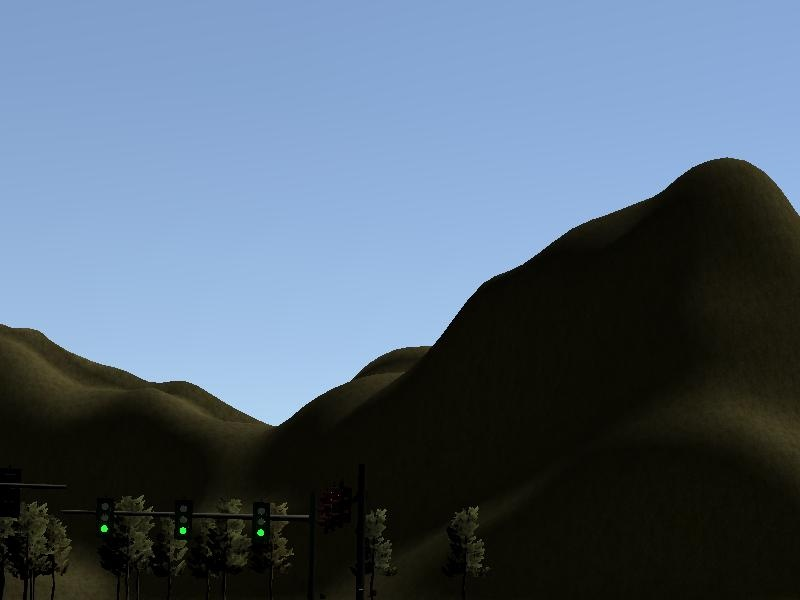GREEN: (170, 499, 196, 541), (94, 496, 117, 542), (251, 502, 273, 541)
